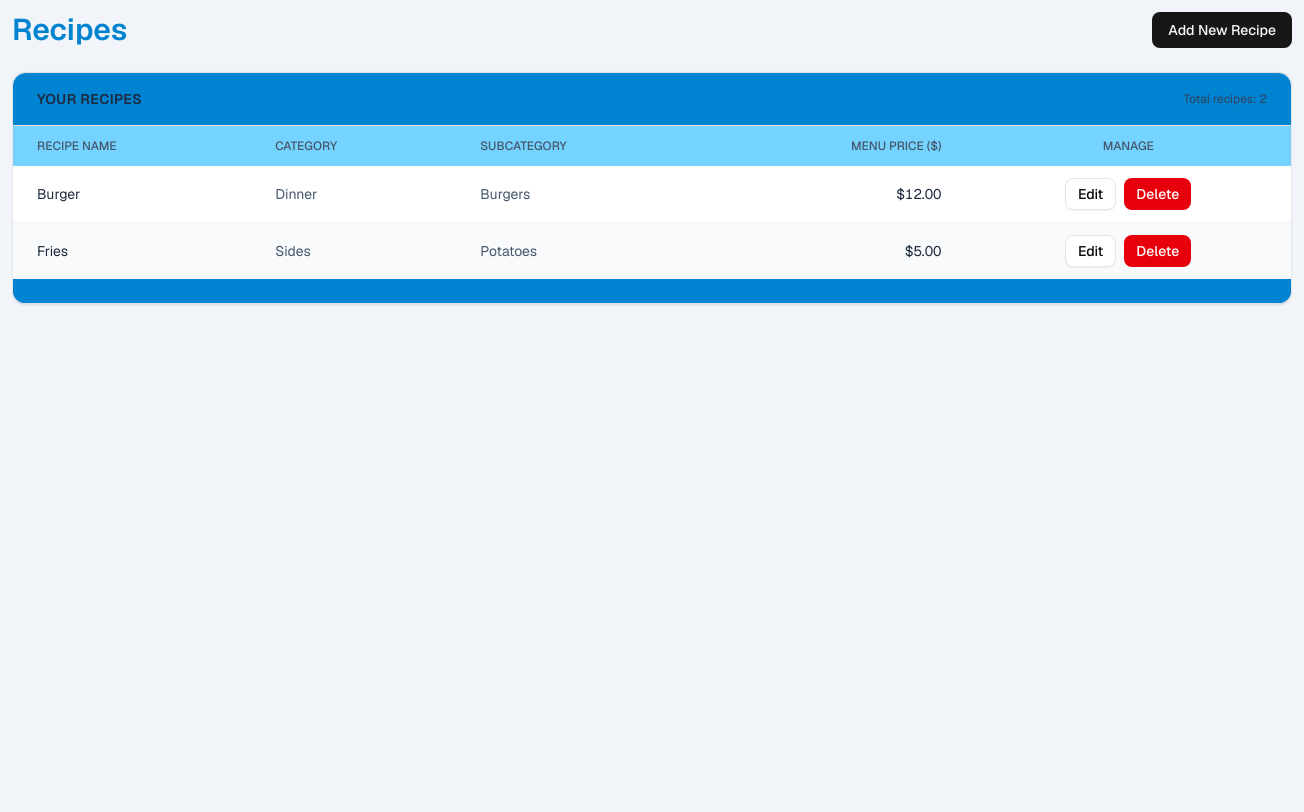
Scenario: RecipesPage › removes an ingredient row
Expected: the text "Burger" is shown, [13,166,251,222]
Step 1. Click the button "Add New Recipe" → (1222, 30), box [1152,12,1292,48]
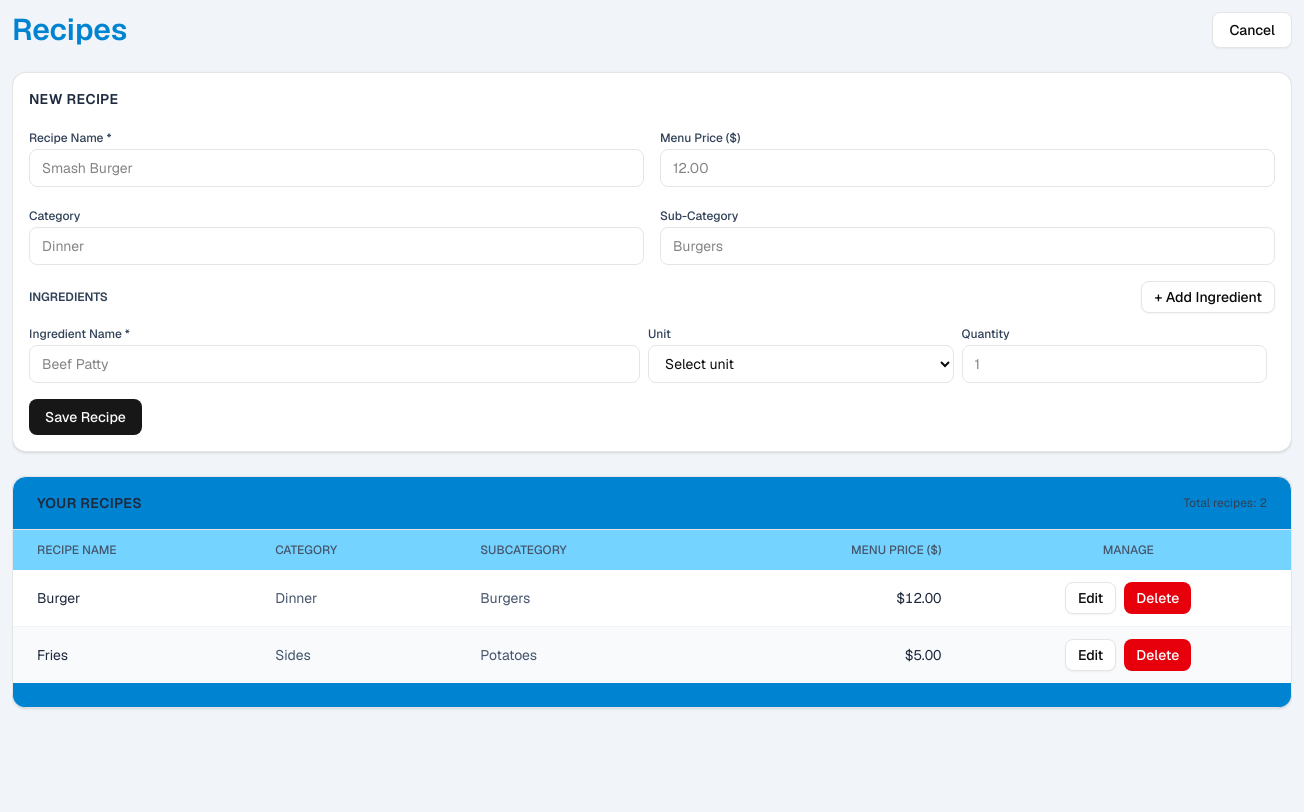
Step 2. Click the button "+ Add Ingredient" → (1208, 297), box [1142,281,1275,313]
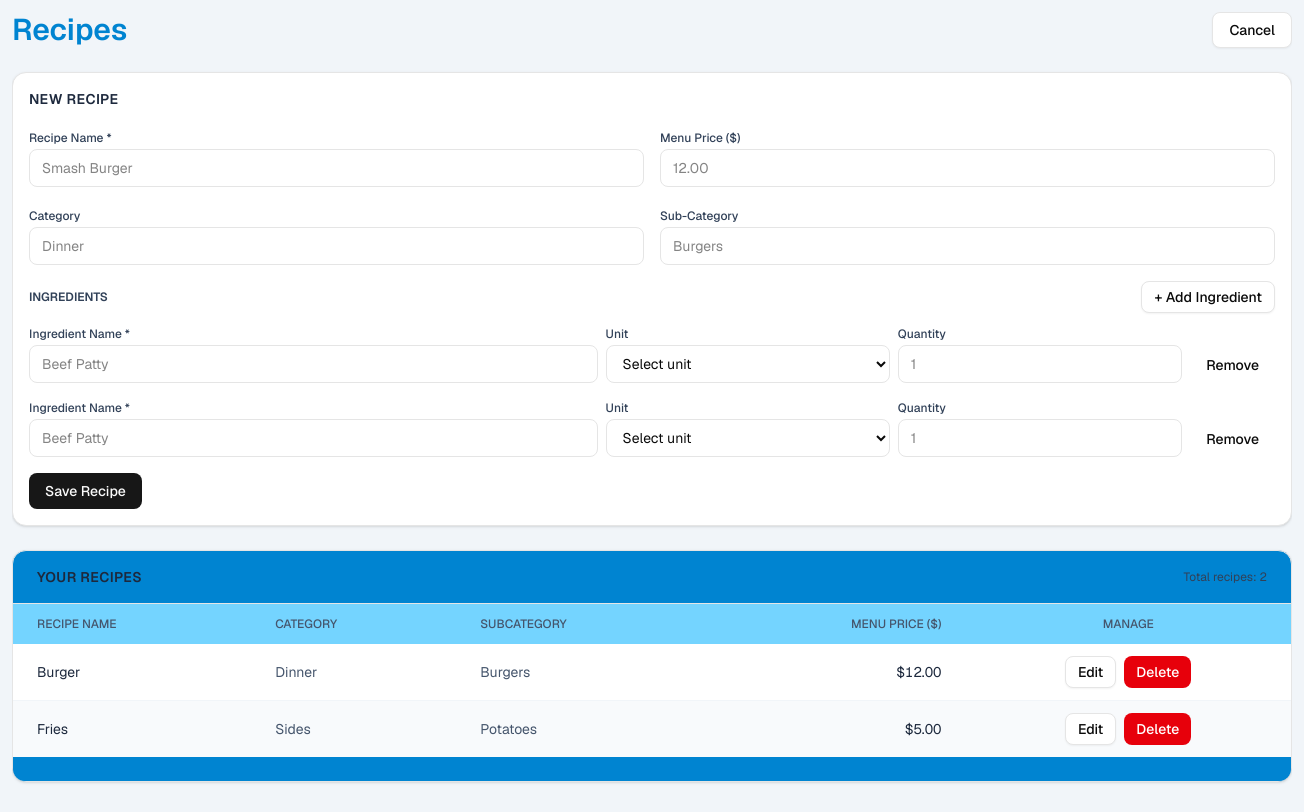
Result: the number of fields with placeholder "Beef Patty" is 2 at [29,345,598,383]; [29,419,598,457]
Step 3. Click the 1st button "Remove" → (1233, 365), box [1190,347,1275,383]
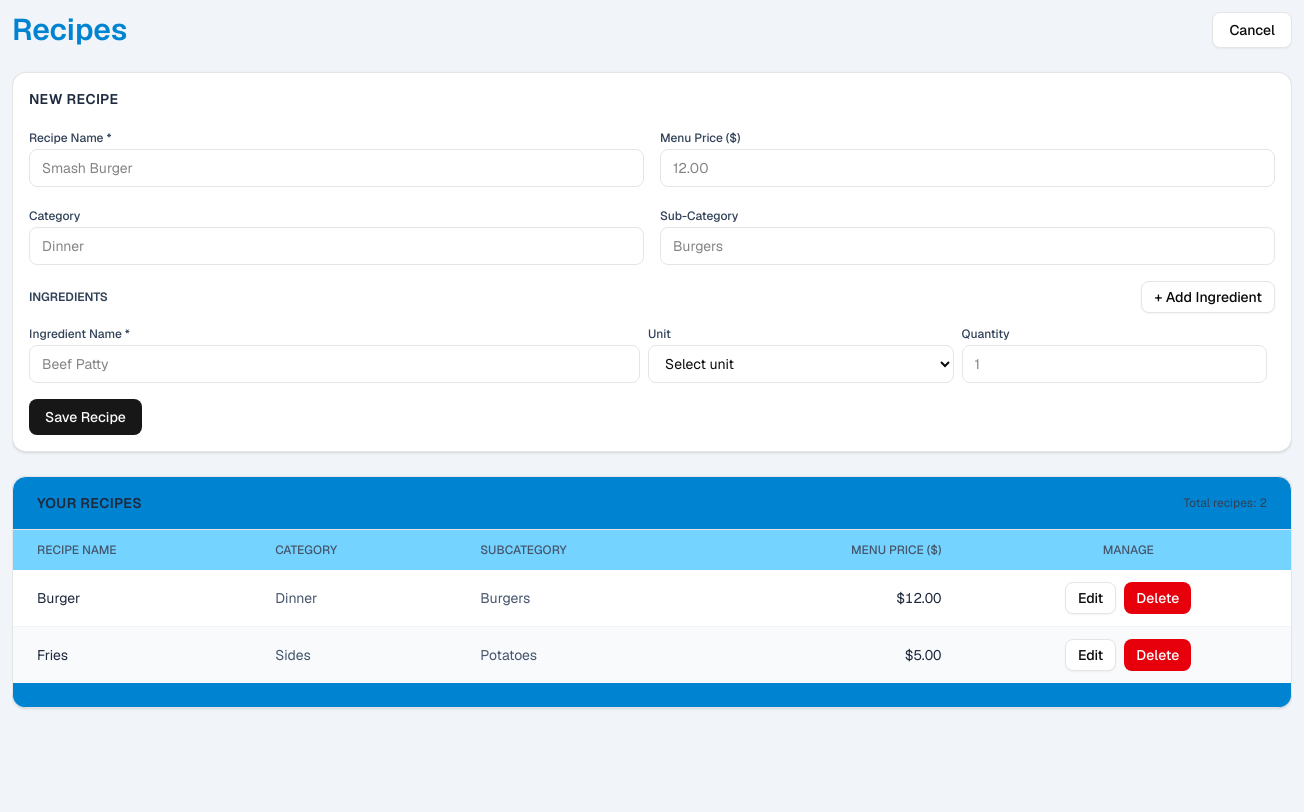
Result: the number of fields with placeholder "Beef Patty" is 1 at [29,345,640,383]
